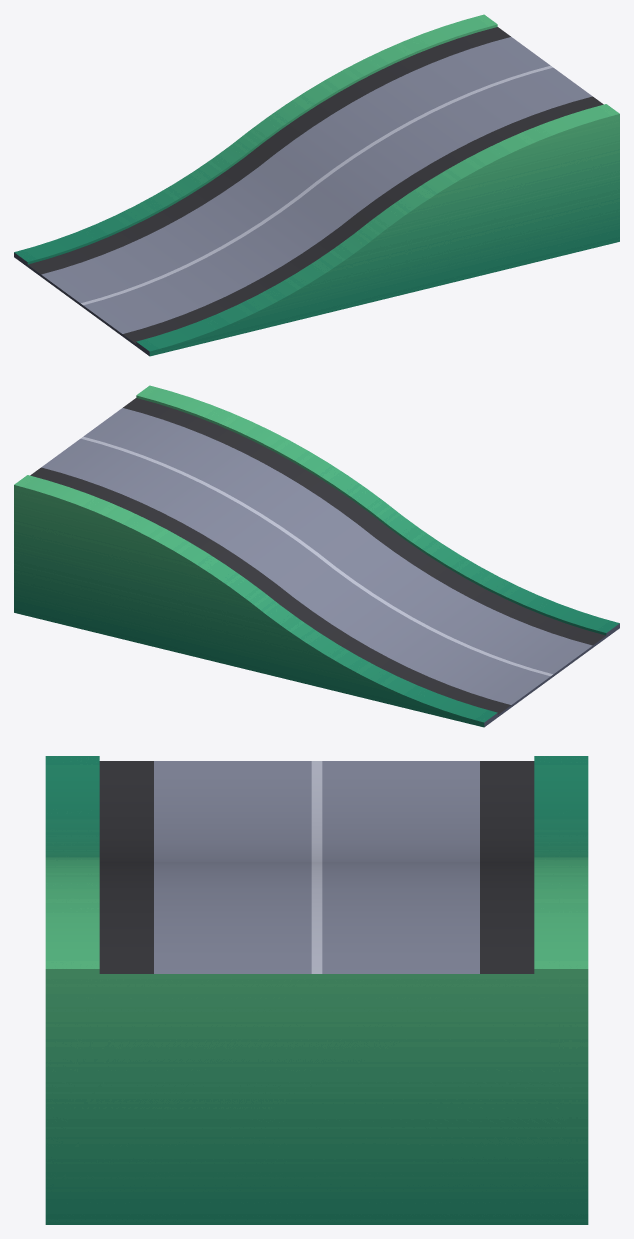
Rendered from road_slant_curve.glb.
The picture shows the model from 3 angles, top to bottom: view 1: azimuth 30°, elevation 25°; view 2: azimuth 150°, elevation 25°; view 3: azimuth 270°, elevation 25°; orthographic projection. The views are drawn at different scales.
Visible parts, largest first — view 1: road-slant-curve; view 2: road-slant-curve; view 3: road-slant-curve.
Boxes of the visible parts, x1,y1,x2,y2 form: road-slant-curve: [14, 14, 619, 356]; road-slant-curve: [14, 385, 619, 727]; road-slant-curve: [45, 756, 588, 1224].
Bounding box in the file's own units: 2 × 0.52 × 1.
Materials: 1 (1 with a texture image).
